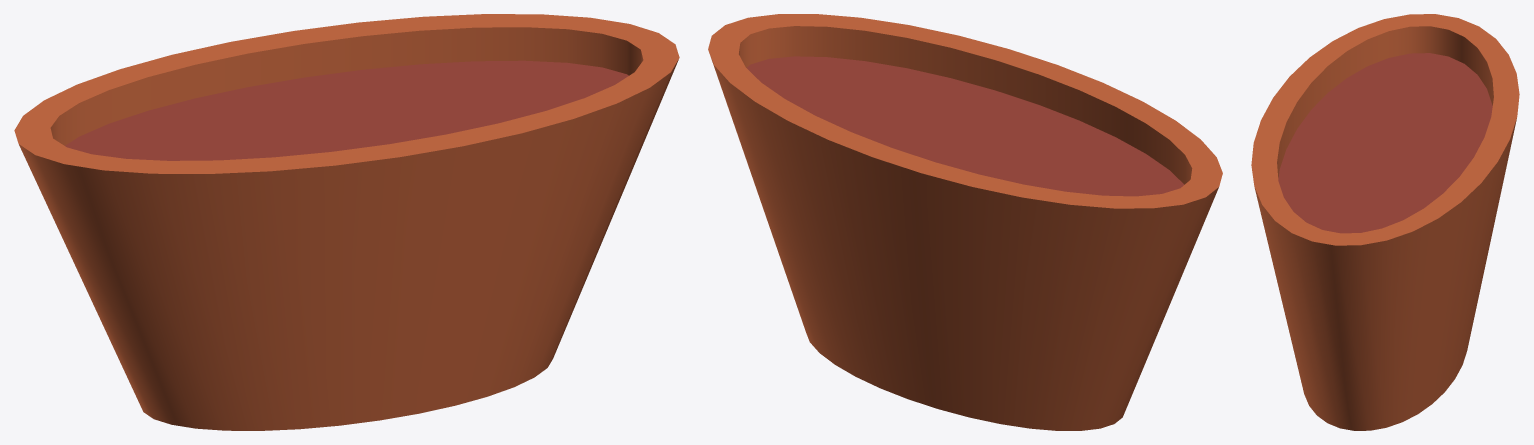
Rendered from Pot_1.fbx.
3 renders of one model, left to right at view 1: azimuth 30°, elevation 25°; view 2: azimuth 150°, elevation 25°; view 3: azimuth 270°, elevation 25°, orthographic. The views are drawn at different scales.
Parts seen in each view (by area): view 1: Cylinder.005; view 2: Cylinder.005; view 3: Cylinder.005.
Part boxes in pixels (left/top/right/bottom): Cylinder.005: left=14, top=14, right=679, bottom=430; Cylinder.005: left=708, top=14, right=1222, bottom=430; Cylinder.005: left=1251, top=14, right=1519, bottom=430.
Size of the model in its own units: 46.88 by 21.65 by 22.94.
1 material, 1 textured.
